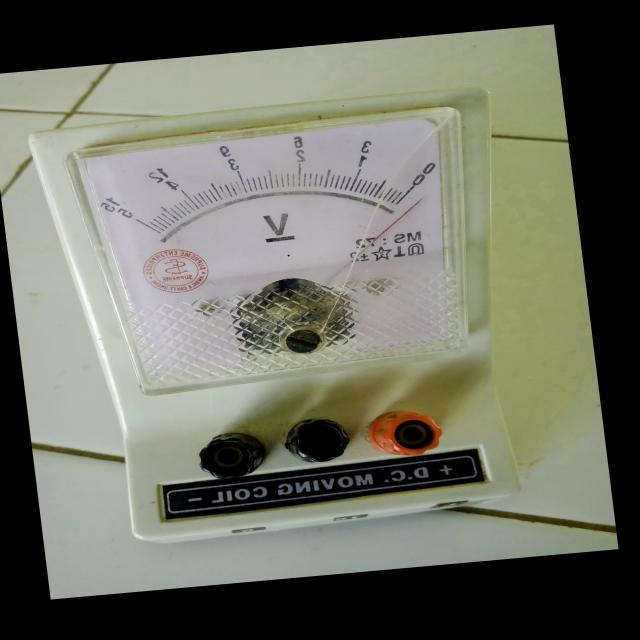Analog Voltmeter: (20, 82, 548, 563)
